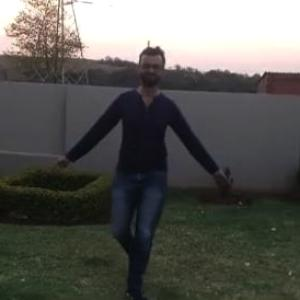land: (30, 40, 250, 294)
